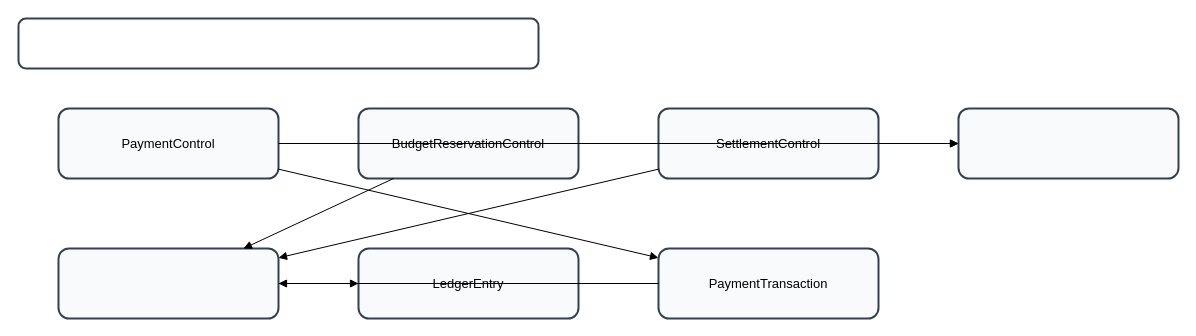
Image size: 1196x336. Some labels were removed from this diagram. The shapes that lost their labels are listed below. From the top down, each one's centre as x and y in pixels, then its label:
(278,43): Tài chính và đối soát
(1068,143): Wallet
(168,283): FinancialTransaction
